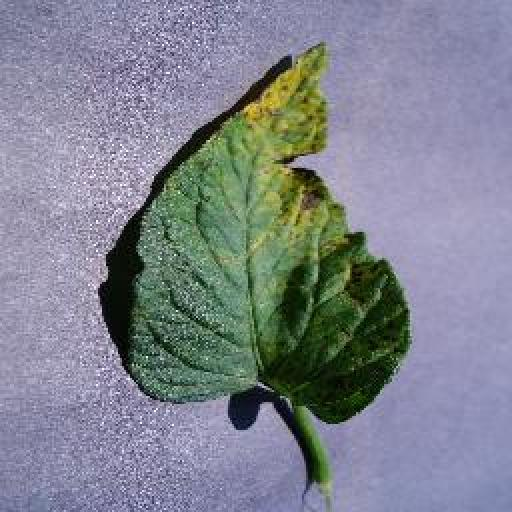disease_tomato: (125, 40, 412, 427)
